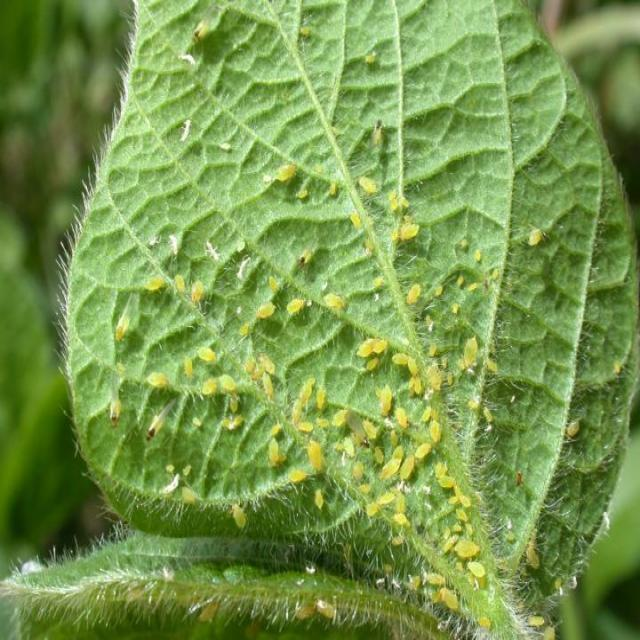Aphids: (351, 314, 494, 638), (244, 374, 346, 522), (339, 158, 434, 274), (248, 244, 348, 334), (148, 344, 240, 424), (140, 234, 204, 324), (153, 447, 215, 510), (294, 589, 346, 640), (515, 213, 555, 261), (226, 482, 254, 550), (396, 274, 432, 310)
